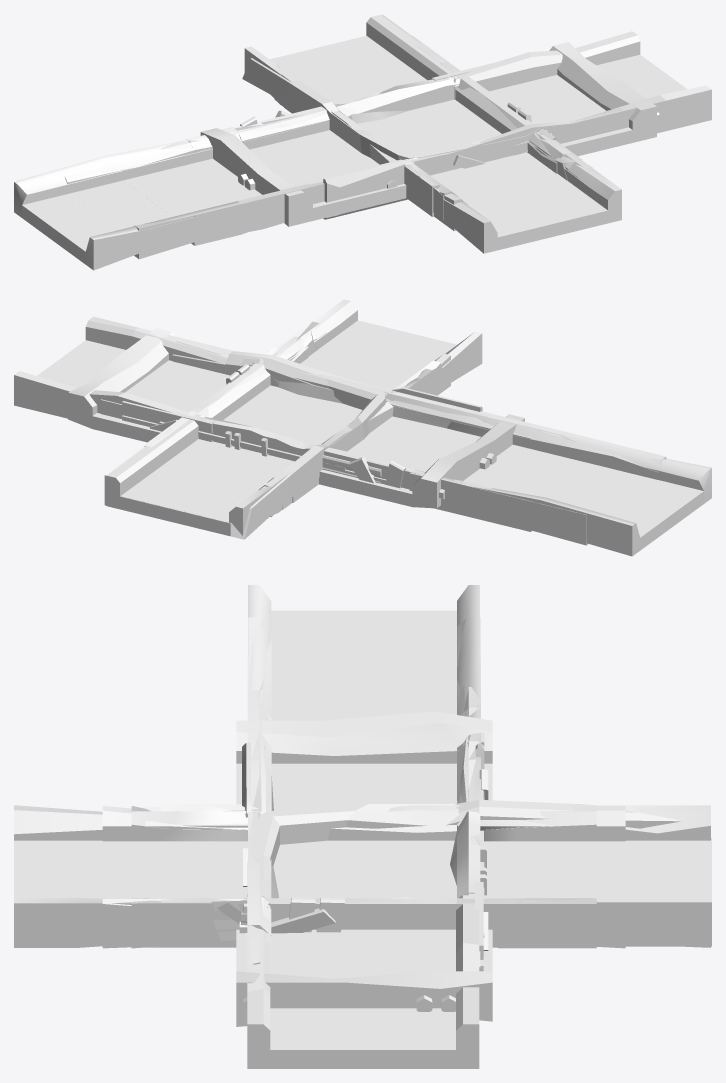
Rendered from Bridges.fbx.
3 renders of one model, top to bottom at view 1: azimuth 30°, elevation 25°; view 2: azimuth 150°, elevation 25°; view 3: azimuth 270°, elevation 25°, orthographic. The views are drawn at different scales.
Parts seen in each view (by area): view 1: Straight_bridge_wide, Right_angle_bridge, Bbidge_open_back_long, Straight_bridge_long, T_bridge_medium, T_bridge_short, T_bridge_long, Straight_bridge_medium, Straight_bridge_medium_short, Straight_bridge_short; view 2: Straight_bridge_wide, Right_angle_bridge, T_bridge_long, T_bridge_short, Straight_bridge_long, T_bridge_medium, Bbidge_open_back_long, Straight_bridge_medium, Straight_bridge_medium_short, Straight_bridge_short; view 3: Straight_bridge_wide, T_bridge_long, Straight_bridge_long, Right_angle_bridge, T_bridge_short, Bbidge_open_back_long, T_bridge_medium, Straight_bridge_medium_short, Straight_bridge_medium, Straight_bridge_short.
Boxes of the visible parts, x1,y1,x2,y2 form: Straight_bridge_wide: (200, 42, 659, 226); Right_angle_bridge: (242, 14, 711, 162); Bbidge_open_back_long: (14, 45, 574, 270); Straight_bridge_long: (244, 14, 621, 253); T_bridge_medium: (122, 52, 569, 245); T_bridge_short: (186, 36, 592, 231); T_bridge_long: (64, 43, 581, 259); Straight_bridge_medium: (235, 63, 622, 219); Straight_bridge_medium_short: (338, 77, 571, 188); Straight_bridge_short: (335, 77, 470, 161); Straight_bridge_wide: (68, 328, 524, 508); Right_angle_bridge: (14, 316, 385, 539); T_bridge_long: (143, 329, 666, 545); T_bridge_short: (133, 321, 534, 517); Straight_bridge_long: (104, 299, 482, 535); T_bridge_medium: (208, 336, 610, 531); Bbidge_open_back_long: (151, 330, 711, 556); Straight_bridge_medium: (101, 340, 488, 487); Straight_bridge_medium_short: (159, 351, 390, 472); Straight_bridge_short: (200, 376, 393, 453); Straight_bridge_wide: (236, 711, 492, 1026); T_bridge_long: (131, 617, 596, 948); Straight_bridge_long: (14, 805, 710, 947); Right_angle_bridge: (247, 800, 711, 1068); T_bridge_short: (102, 707, 625, 948); Bbidge_open_back_long: (131, 585, 593, 947); T_bridge_medium: (161, 656, 567, 940); Straight_bridge_medium_short: (239, 811, 486, 937); Straight_bridge_medium: (241, 741, 488, 973); Straight_bridge_short: (251, 810, 480, 898).
Bounding box in the file's own units: 1789 × 116 × 1202.
